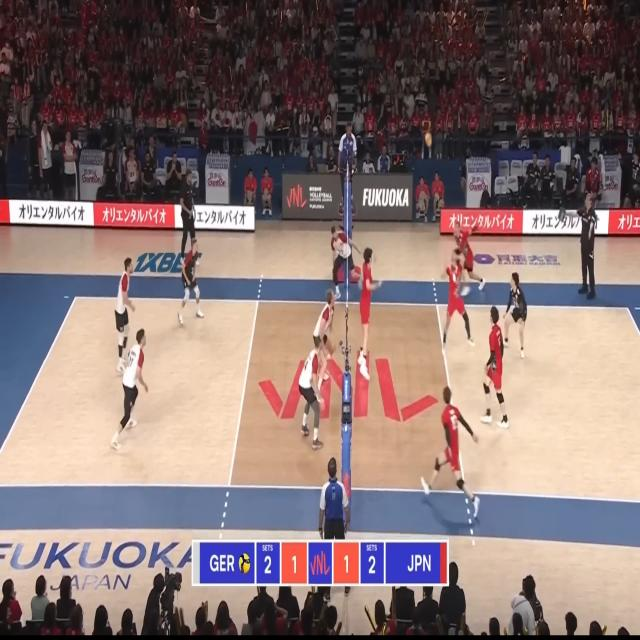ball: (425, 134, 431, 146)
